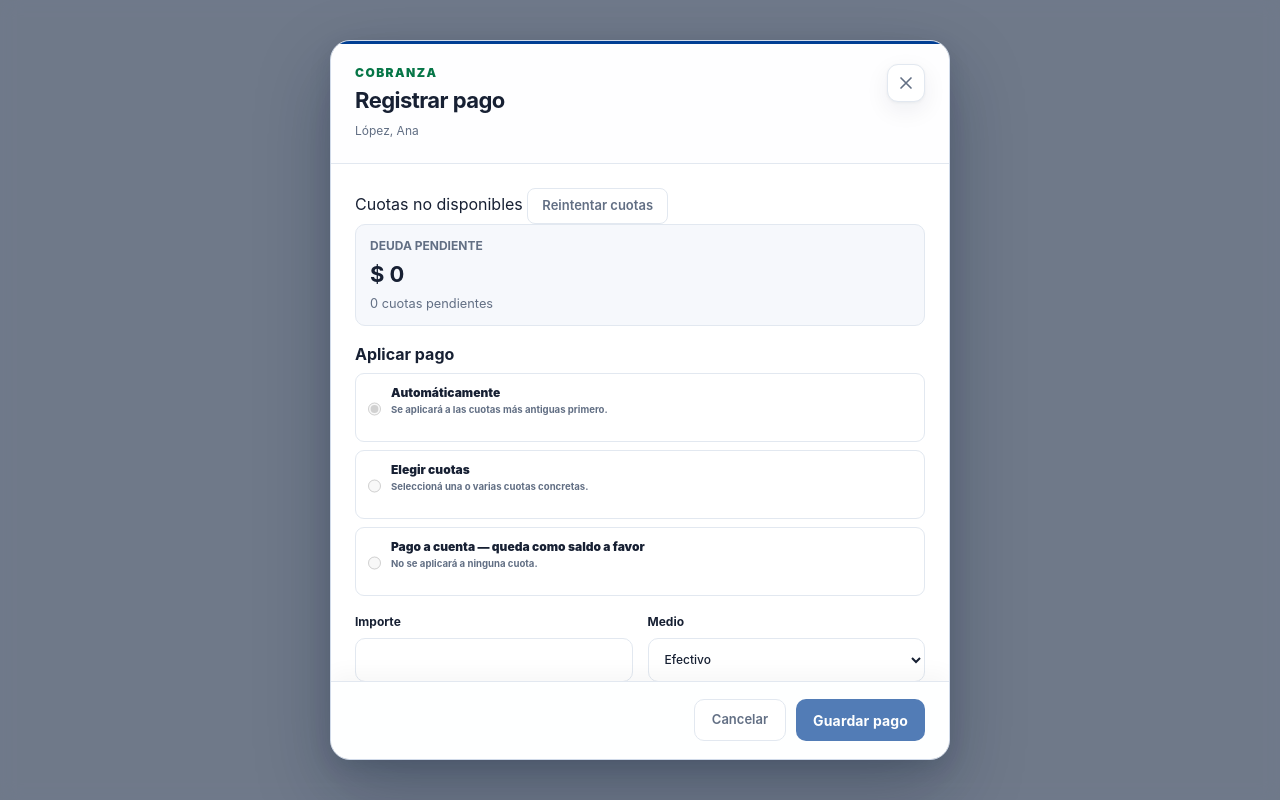
Test: PagoForm › recupera un error de carga inicial sin permitir un pago a ciegas
Check: the submit button is disabled, box [796,700,925,742]
Click the button "Reintentar cuotas" at (598, 206), box [527,188,668,224]
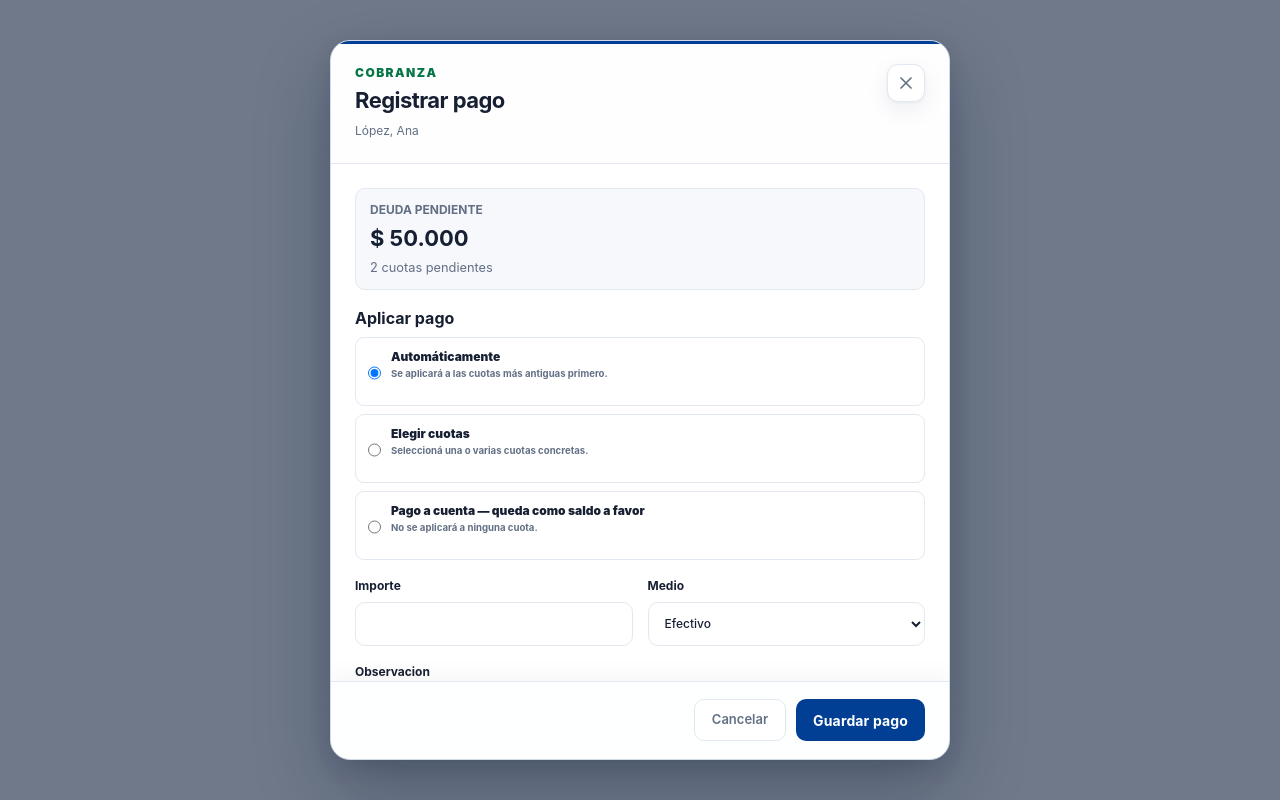
Check: the text "50.000" is shown, box [370,224,469,250]
